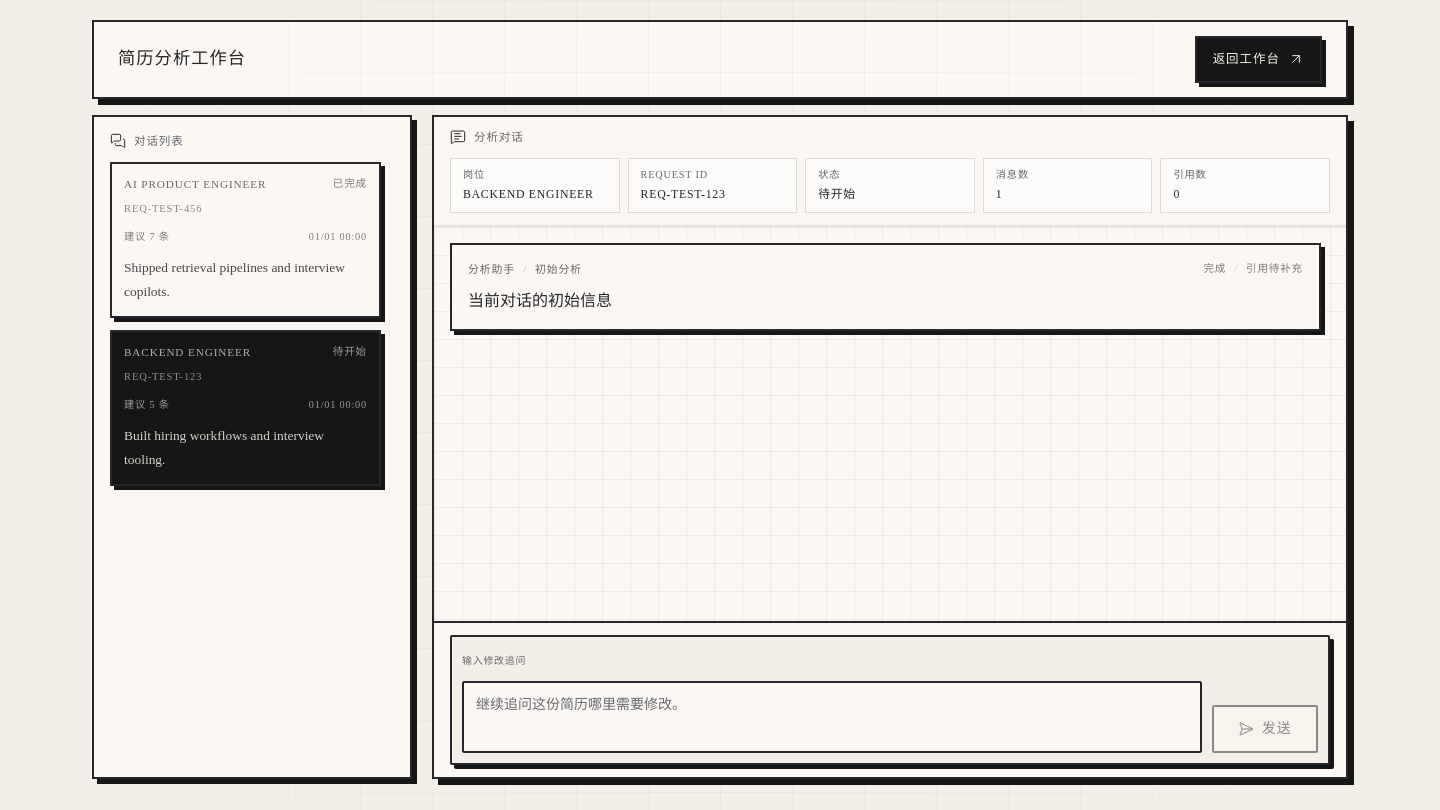
ResultsWorkspace › does not initial_analysis a newly selected pack before that pack's messages finish hydrating
Check: the text "当前对话的初始信息" is shown, box [468,292,612,309]
Click the button "AI Product Engineer". click: (195, 184)
box: [110,162,381,318]
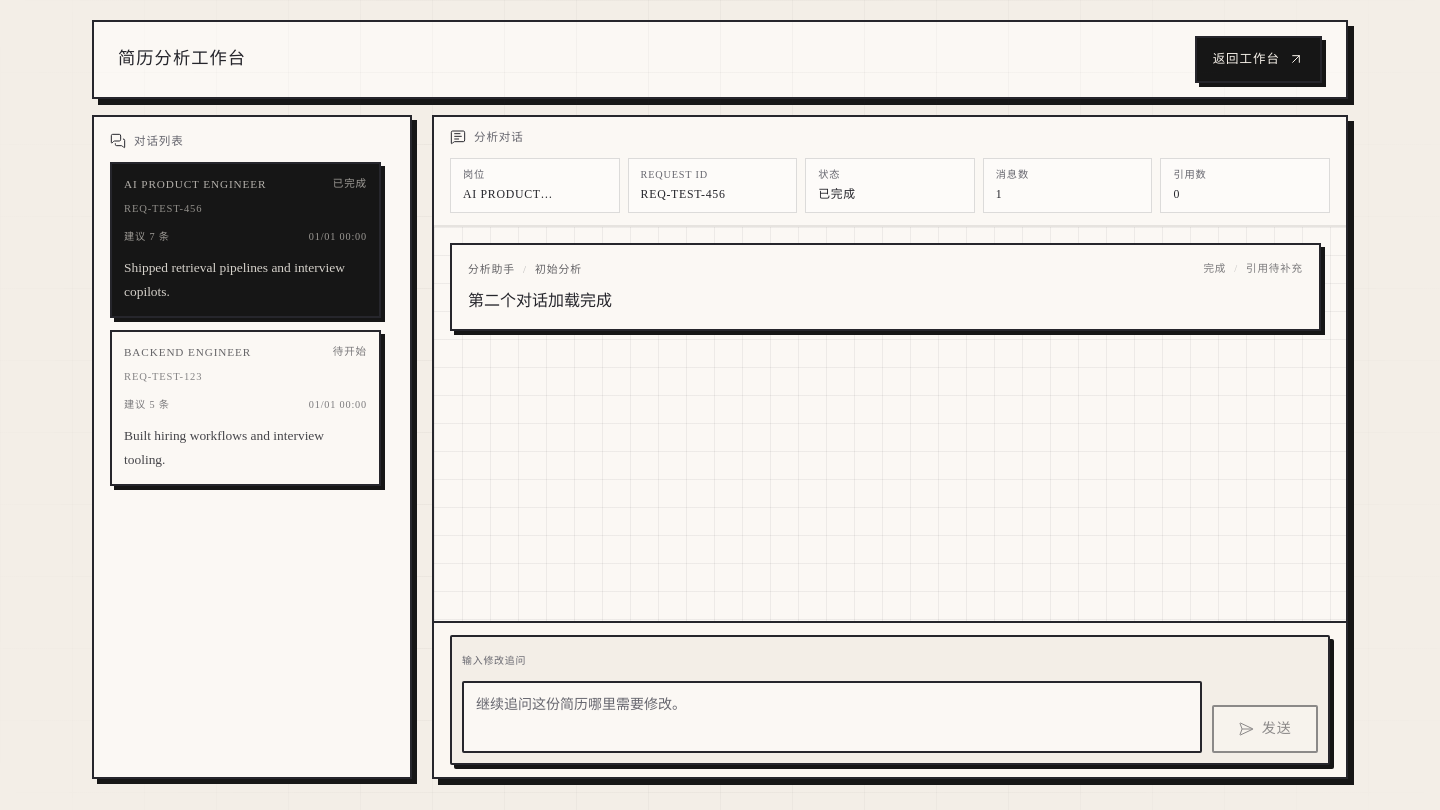
Check: the text "第二个对话加载完成" is shown, box [468,292,612,309]
